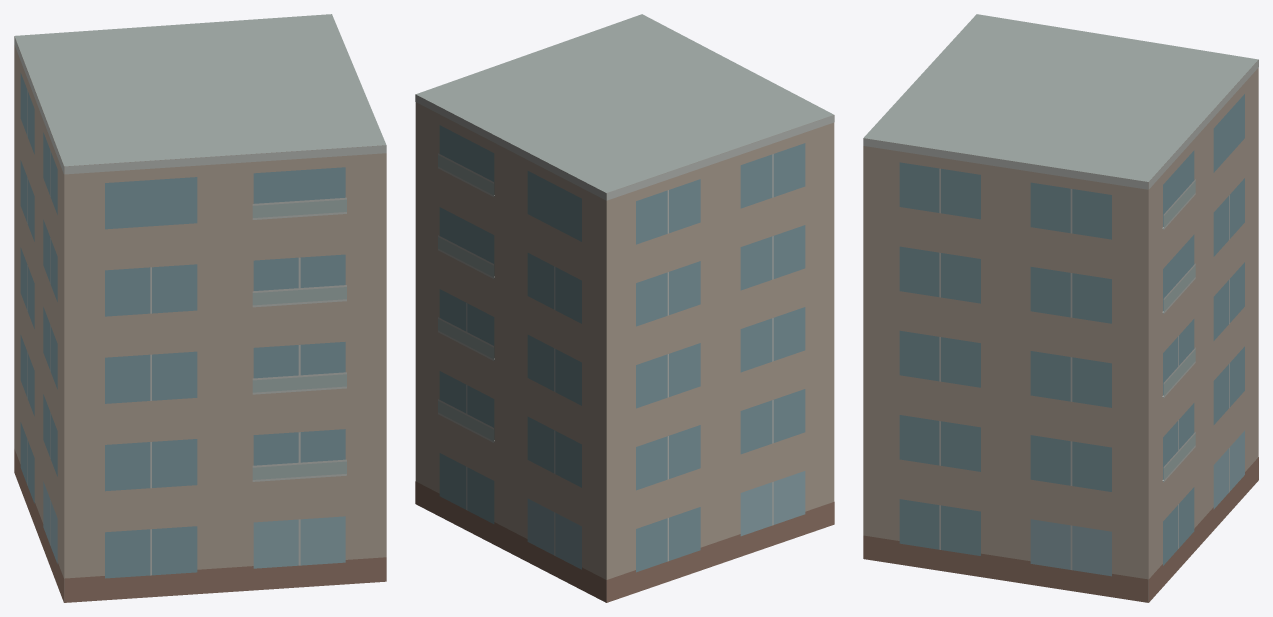
Rendered from survey-upis-32511037.glb.
3 renders of one model, left to right at view 1: azimuth 30°, elevation 25°; view 2: azimuth 150°, elevation 25°; view 3: azimuth 270°, elevation 25°, orthographic. The views are drawn at different scales.
Visible parts, largest first — view 1: survey-upis-32511037.tmp; view 2: survey-upis-32511037.tmp; view 3: survey-upis-32511037.tmp.
Part boxes in pixels (left/top/right/bottom): survey-upis-32511037.tmp: left=14, top=14, right=386, bottom=602; survey-upis-32511037.tmp: left=415, top=14, right=834, bottom=602; survey-upis-32511037.tmp: left=863, top=14, right=1258, bottom=602.
Size of the model in its own units: 11.31 by 13.2 by 11.25.
